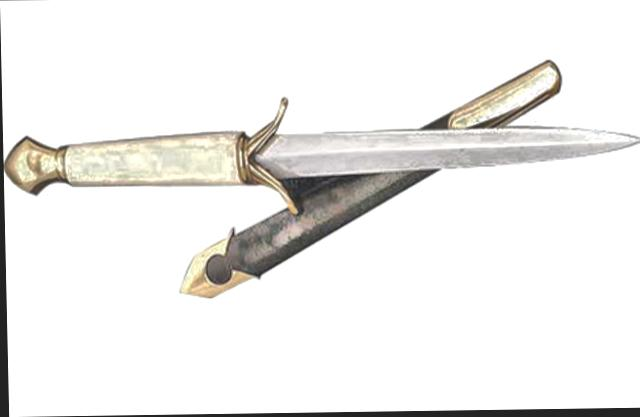knife: (290, 107, 640, 191)
